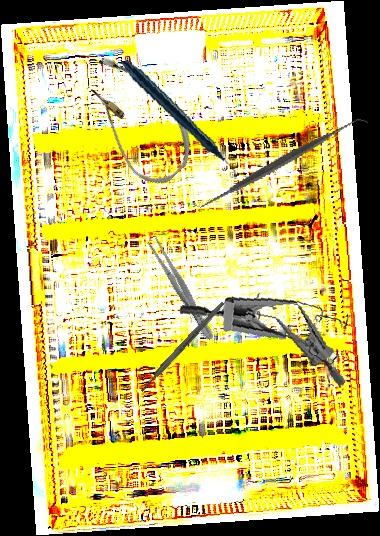Cannula: (62, 44, 210, 195)
Dressing Forceps: (145, 236, 218, 343)
Handpiece: (121, 46, 237, 194)
Scalpel Handle: (139, 300, 226, 394)
Spatula Surgical: (192, 73, 369, 253)
Speculum: (179, 280, 355, 386), (223, 287, 361, 388)
